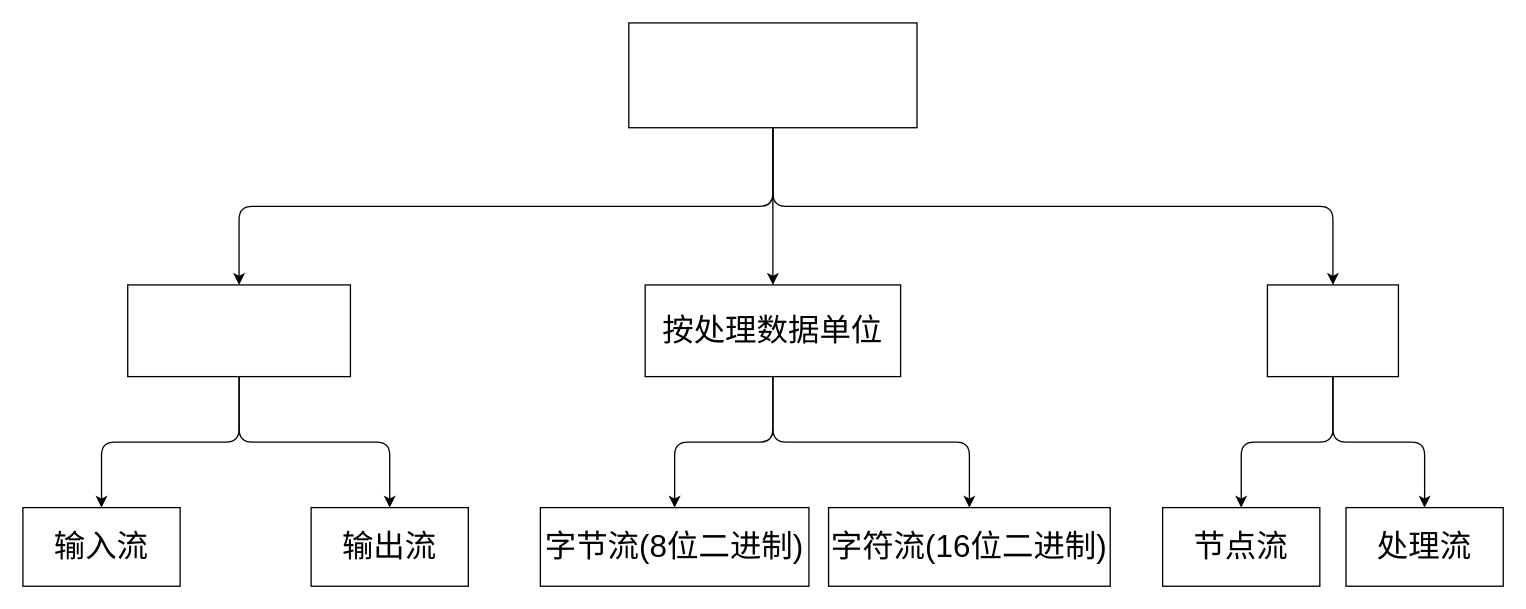
Some shapes in this 1526 by 609 pixel diagram are drawn without their labels. Each missing label, with the centre of its shape:
JAVA IO 流分类: [772,75]
按流的方向: [238,330]
按角色: [1332,330]
